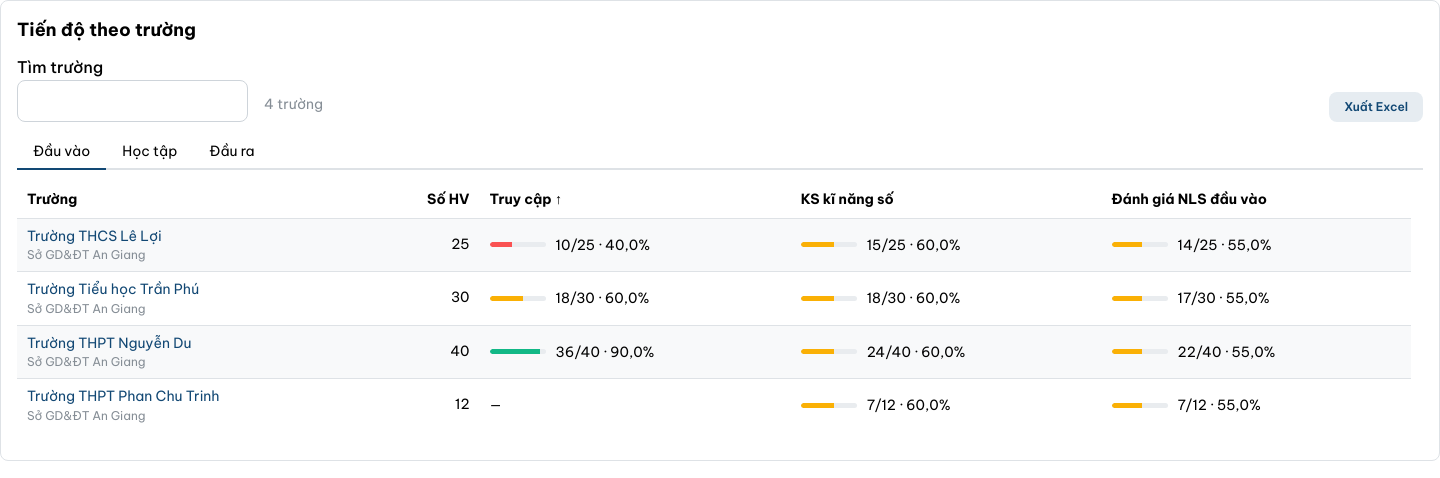
it: KhoiTienDoTruong › tab Đầu ra: cột Đánh giá NLS đầu ra + Đạt với "lượt ĐK"
The image size is (1440, 478).
Expected: the button "Trường THPT Nguyễn Du" is shown, [27,332,191,353]
Click the tab "Đầu ra": (232,152) [193,134,271,170]
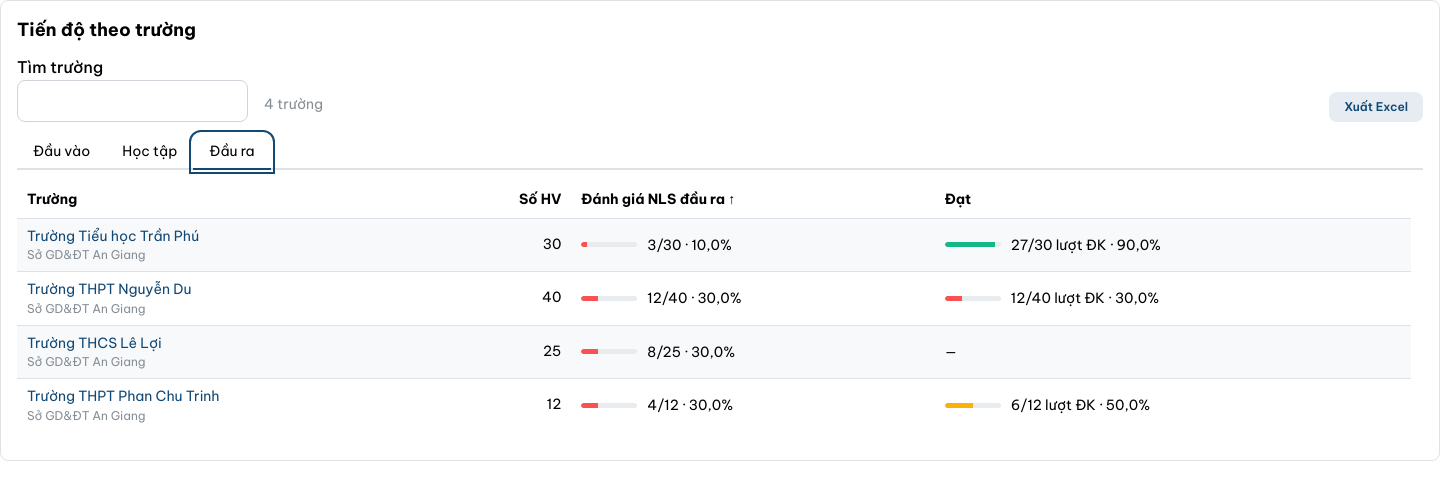
Now the column heading "Đánh giá NLS đầu ra" is shown, box [571,182,935,218]
Now the column heading "Đạt" is shown, box [935,182,1411,218]
Now the text "27/30 lượt ĐK · 90,0%" is shown, box [1011,235,1161,255]
